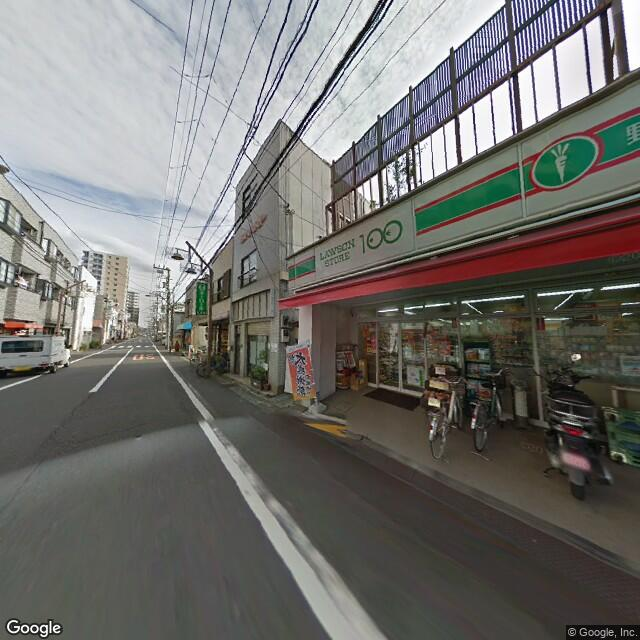lawson: (289, 79, 639, 290)
